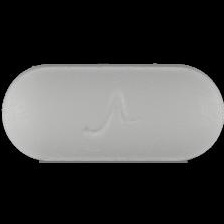63629-4422: (0, 0, 224, 224)
